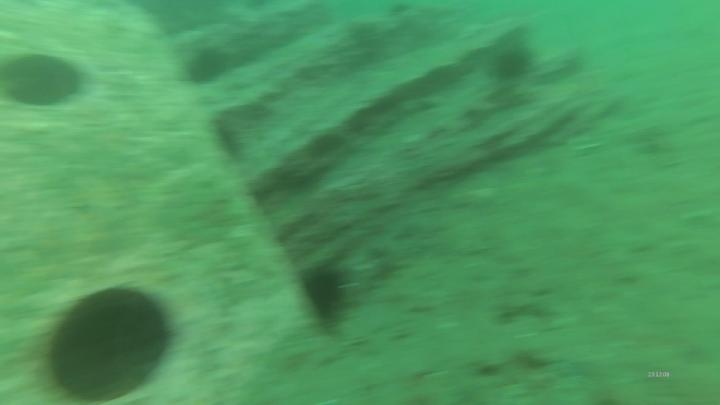echinus: (304, 257, 349, 327), (496, 39, 536, 84), (186, 46, 228, 82)
